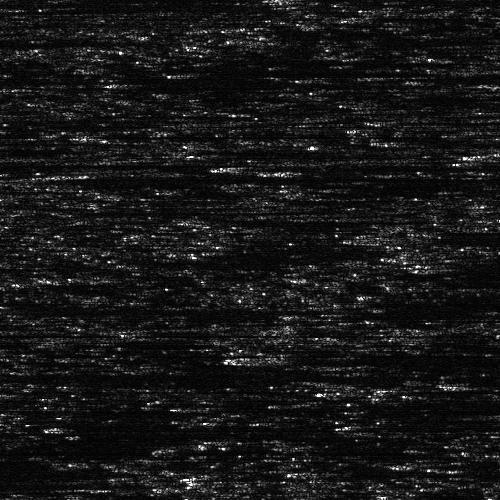object: (315, 233, 460, 244), (168, 160, 261, 171), (183, 352, 288, 361), (20, 175, 61, 180), (0, 304, 23, 311), (491, 148, 500, 157)
shadow: (41, 175, 500, 180), (0, 304, 282, 311), (215, 160, 393, 171), (236, 352, 390, 361), (0, 161, 191, 166), (388, 233, 471, 244), (0, 79, 32, 84)
